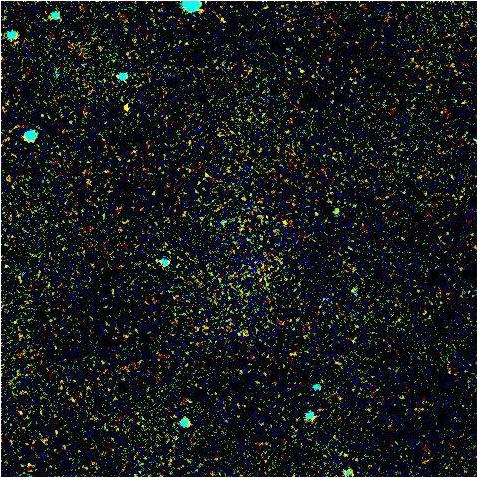star: (269, 209, 299, 239)
